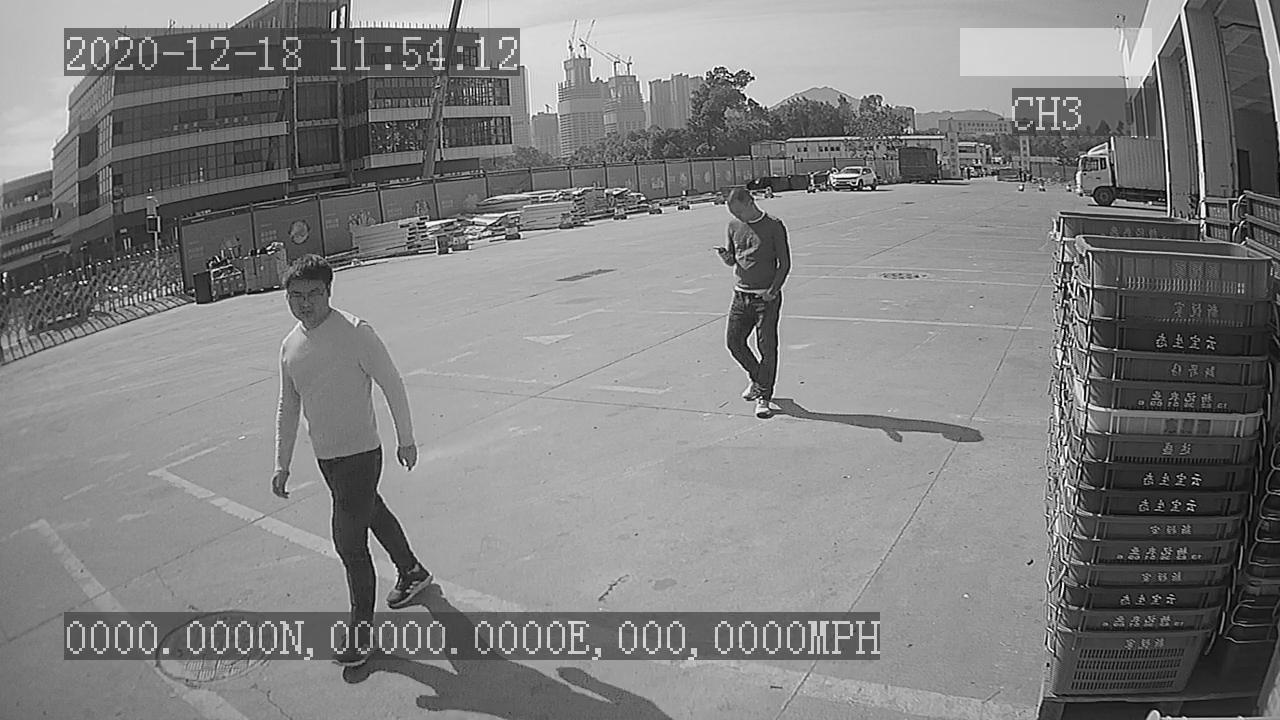person: (711, 179, 797, 429)
